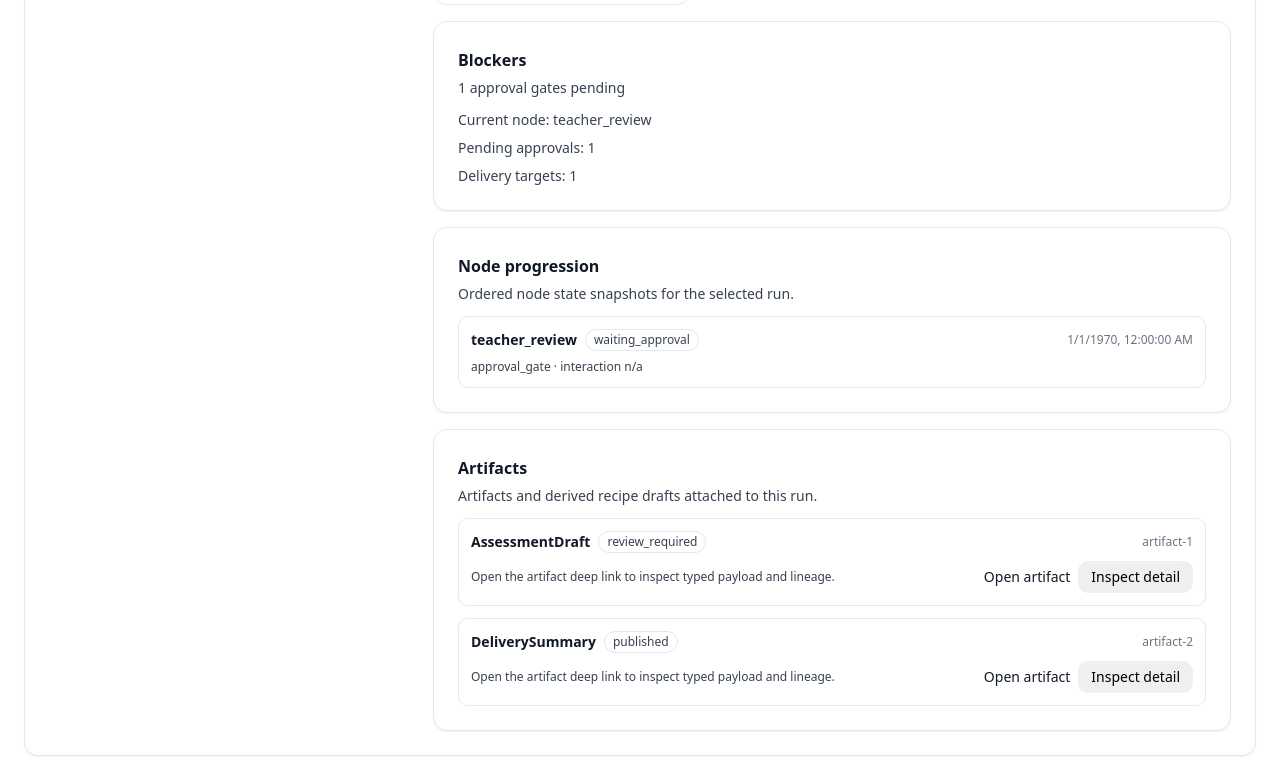
control console › loads run artifact detail on demand through the artifact endpoint
(page scrolled)
Check: the heading "Artifacts" is shown, box [458, 457, 527, 479]
What coordinates should you click on to do the following:
click the button "Inspect detail" below "artifact-2"
I would click on:
 (1136, 677)
Its box is [1078, 661, 1193, 693].
(page scrolled)
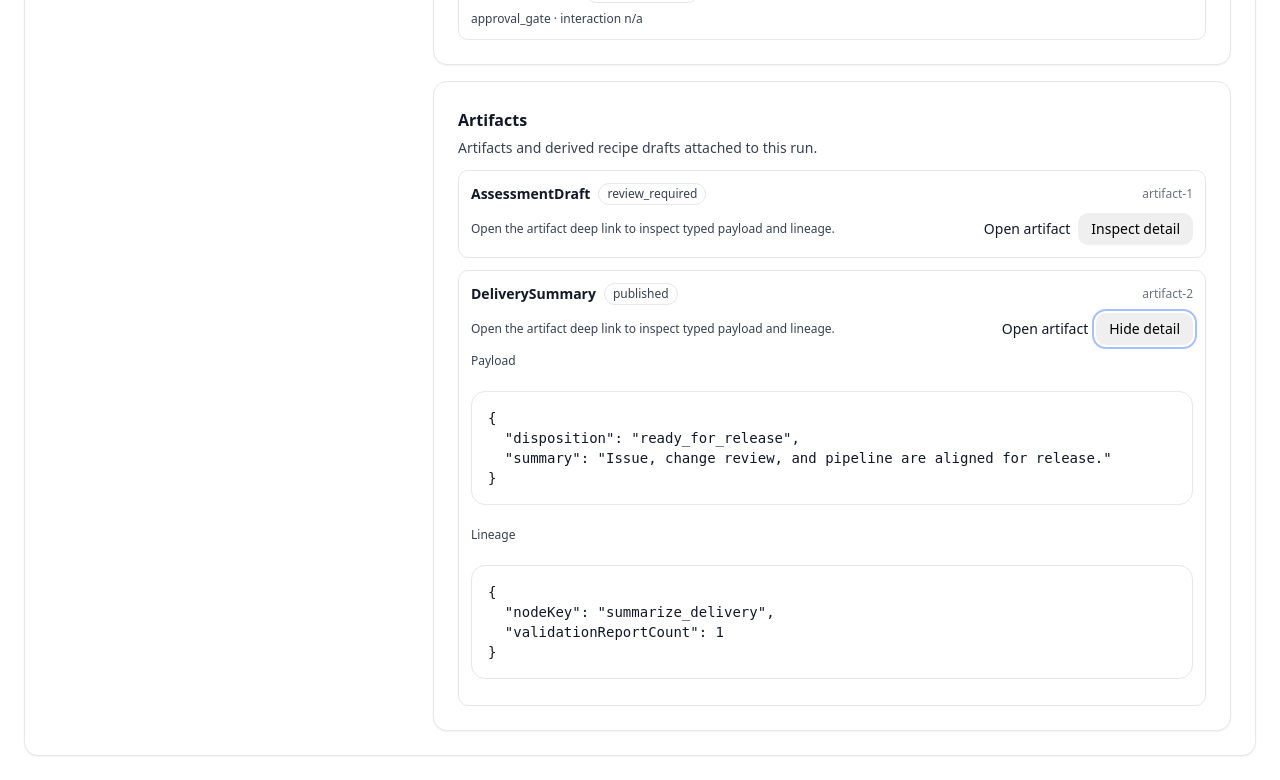
Check: the text "ready_for_release" is shown, box [488, 410, 1112, 486]
Check: the text "summarize_delivery" is shown, box [488, 584, 775, 660]
